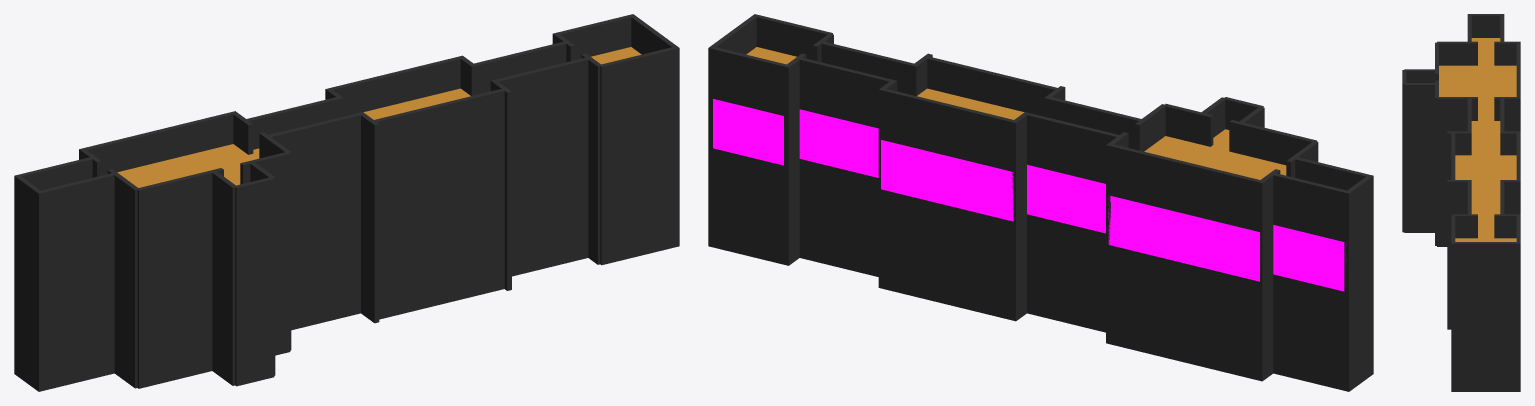
File: EntireLV1.fbx
The picture shows the model from 3 angles, left to right: view 1: azimuth 30°, elevation 25°; view 2: azimuth 150°, elevation 25°; view 3: azimuth 270°, elevation 25°; orthographic projection. The views are drawn at different scales.
Visible parts, largest first — view 1: Wall__8__2, Wall__1__2, Wall__5__2, Wall__18__2, Wall__24__2, Wall__13__2, Wall__8_, Wall__8__1, Wall__16_, Wall__5_, Wall__18_, Wall__1_ (+39 smaller); view 2: Wall__16__2, Wall__9__2, Wall__4__2, Wall__16_, Wall__12__2, Wall__16__1, Wall__25__2, Wall_5, Wall__9_, Wall__9__1, Wall__4_, Wall__12_ (+30 smaller); view 3: Wall_4, Cube__2__1, Wall, Wall_3, Wall__21__2, Cube__1__1, Wall__10_, Wall__21_, Wall__21__1, Cube__4__1, Wall__19_, Wall__10__2 (+32 smaller).
Part boxes in pixels (x1,y1,x2,y2): Wall__8__2: (379, 190, 504, 319); Wall__1__2: (600, 148, 677, 265); Wall__5__2: (512, 159, 588, 276); Wall__18__2: (137, 272, 212, 388); Wall__24__2: (41, 274, 114, 391); Wall__13__2: (291, 214, 360, 330); Wall__8_: (372, 88, 506, 170); Wall__8__1: (379, 140, 504, 220); Wall__16_: (83, 111, 235, 175); Wall__5_: (495, 57, 588, 127); Wall__18_: (136, 168, 223, 239); Wall__1_: (599, 47, 677, 116); Wall__16__2: (1108, 245, 1259, 380); Wall__9__2: (881, 189, 1013, 320); Wall__4__2: (799, 159, 878, 276); Wall__16_: (1109, 144, 1262, 231); Wall__12__2: (1027, 214, 1105, 332); Wall__16__1: (1108, 195, 1259, 281); Wall__25__2: (1273, 274, 1346, 390); Wall_5: (713, 148, 783, 264); Wall__9_: (881, 88, 1015, 171); Wall__9__1: (881, 140, 1013, 221); Wall__4_: (798, 57, 892, 128); Wall__12_: (1026, 112, 1121, 183); Wall_4: (1451, 318, 1520, 391); Cube__2__1: (1439, 64, 1516, 119); Wall: (1451, 242, 1520, 280); Wall_3: (1451, 281, 1520, 317); Wall__21__2: (1404, 159, 1434, 232); Cube__1__1: (1455, 154, 1516, 202); Wall__10_: (1437, 97, 1477, 135); Wall__21_: (1404, 83, 1434, 121); Wall__21__1: (1404, 122, 1434, 158); Cube__4__1: (1471, 120, 1500, 154); Wall__19_: (1437, 41, 1477, 65); Wall__10__2: (1437, 172, 1447, 246).
Size of the model in its own units: 6650 by 2000 by 1450.
